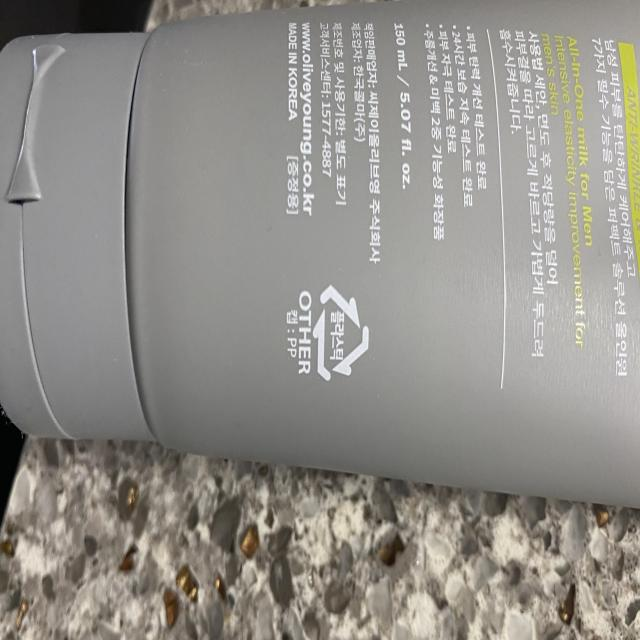Plastic: (313, 280, 372, 384)
